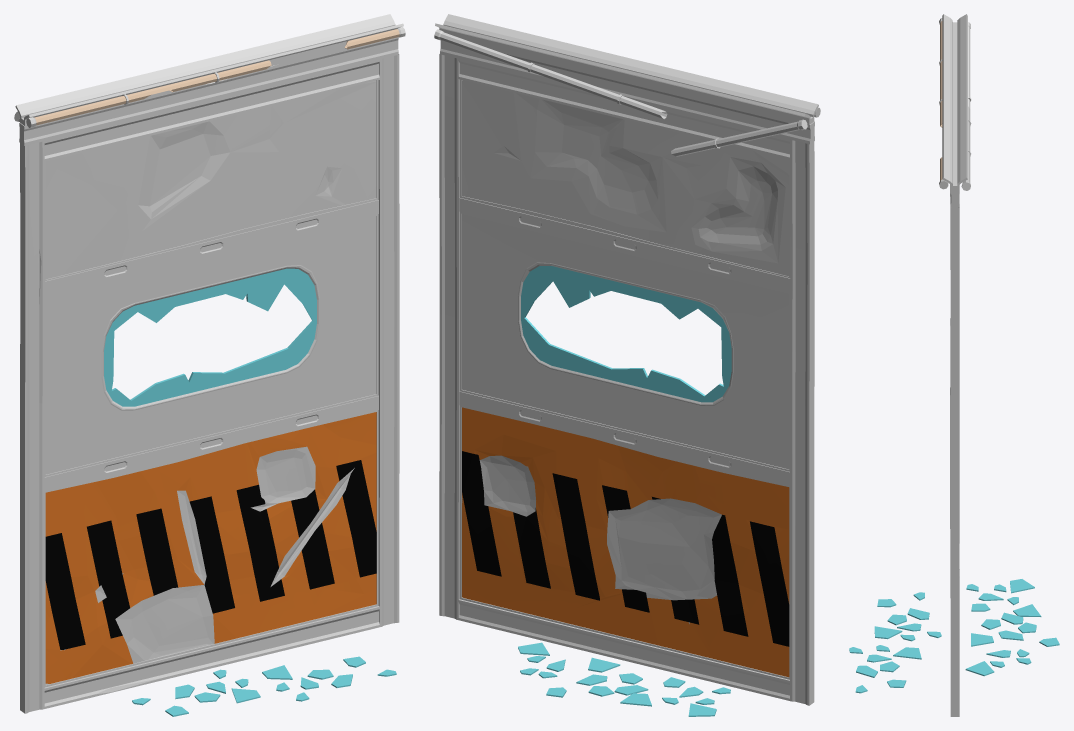
Rendered from SM_Wall_Broken_03.glb.
3 renders of one model, left to right at view 1: azimuth 30°, elevation 25°; view 2: azimuth 150°, elevation 25°; view 3: azimuth 270°, elevation 25°, orthographic. The views are drawn at different scales.
Parts seen in each view (by area): view 1: SM_Wall_Broken_03; view 2: SM_Wall_Broken_03; view 3: SM_Wall_Broken_03.
Boxes of the visible parts, x1,y1,x2,y2 form: SM_Wall_Broken_03: [14, 14, 405, 716]; SM_Wall_Broken_03: [434, 14, 820, 716]; SM_Wall_Broken_03: [849, 14, 1059, 716].
Bounding box in the file's own units: 2 × 3.07 × 1.09.
